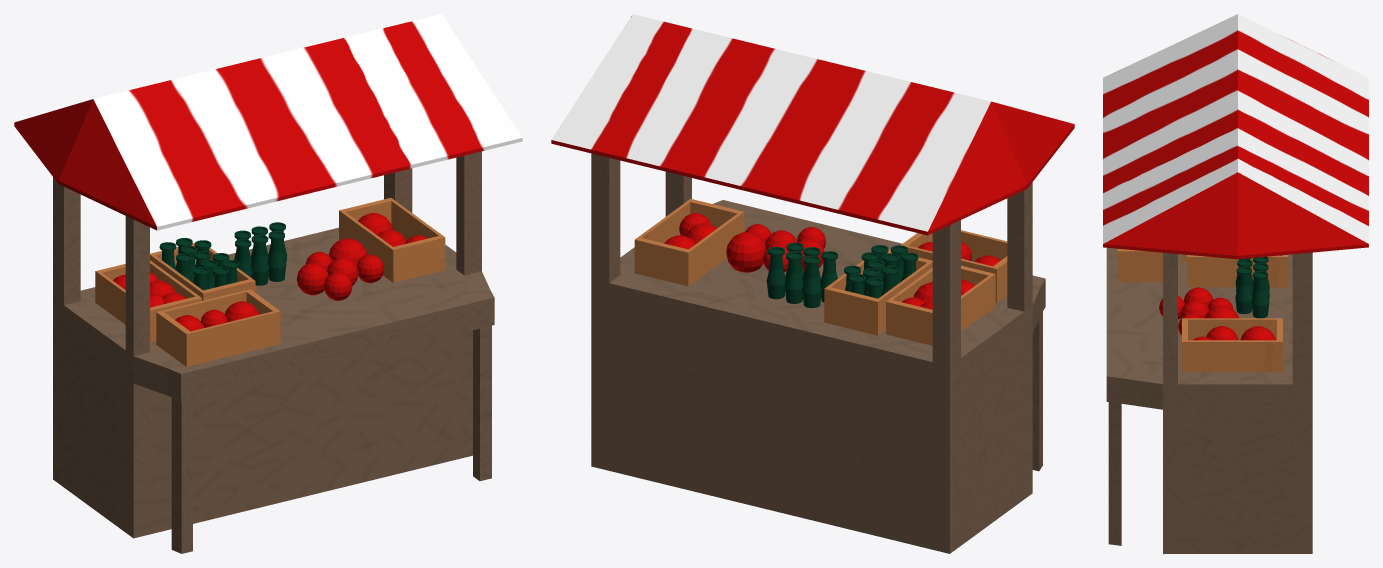
File: shop.fbx
3 views of the same model, side by side, from view 1: azimuth 30°, elevation 25°; view 2: azimuth 150°, elevation 25°; view 3: azimuth 270°, elevation 25° (orthographic). The views are drawn at different scales.
Visible parts, largest first — view 1: Shop, Tent, Box.003, Box.002, Box, Box.001, Sphere.016, Cylinder.014, Cylinder.015, Sphere.012, Sphere.017, Sphere.015; view 2: Shop, Tent, Box.002, Box, Box.001, Box.003, Sphere.012, Cylinder, Cylinder.013, Cylinder.012; view 3: Tent, Shop, Box.002, Box.001, Box.003, Cylinder.013, Cylinder.014, Sphere, Sphere.007, Sphere.016, Sphere.013, Sphere.012.
Part boxes in pixels (bbox=[...]): Shop: bbox=[53, 151, 494, 553]; Tent: bbox=[14, 14, 522, 230]; Box.003: bbox=[156, 289, 280, 366]; Box.002: bbox=[339, 198, 445, 282]; Box: bbox=[95, 260, 201, 342]; Box.001: bbox=[150, 243, 255, 300]; Sphere.016: bbox=[296, 262, 328, 295]; Cylinder.014: bbox=[268, 231, 286, 281]; Cylinder.015: bbox=[251, 234, 269, 285]; Sphere.012: bbox=[329, 238, 367, 265]; Sphere.017: bbox=[324, 272, 352, 300]; Sphere.015: bbox=[356, 254, 384, 283]; Shop: bbox=[591, 153, 1045, 553]; Tent: bbox=[551, 14, 1074, 235]; Box.002: bbox=[634, 198, 744, 286]; Box: bbox=[886, 265, 995, 345]; Box.001: bbox=[824, 250, 932, 335]; Box.003: bbox=[901, 230, 1007, 302]; Sphere.012: bbox=[726, 232, 766, 272]; Cylinder: bbox=[802, 255, 821, 308]; Cylinder.013: bbox=[766, 246, 785, 299]; Cylinder.012: bbox=[784, 251, 803, 303]; Tent: bbox=[1103, 14, 1368, 259]; Shop: bbox=[1106, 248, 1312, 553]; Box.002: bbox=[1182, 318, 1282, 372]; Box.001: bbox=[1187, 254, 1288, 287]; Box.003: bbox=[1117, 248, 1162, 281]; Cylinder.013: bbox=[1251, 271, 1269, 318]; Cylinder.014: bbox=[1235, 266, 1252, 314]; Sphere: bbox=[1240, 326, 1275, 340]; Sphere.007: bbox=[1206, 326, 1238, 340]; Sphere.016: bbox=[1184, 287, 1213, 306]; Sphere.013: bbox=[1180, 300, 1209, 318]; Sphere.012: bbox=[1204, 305, 1238, 318].
Bounding box in the file's own units: 240 × 225 × 142.
